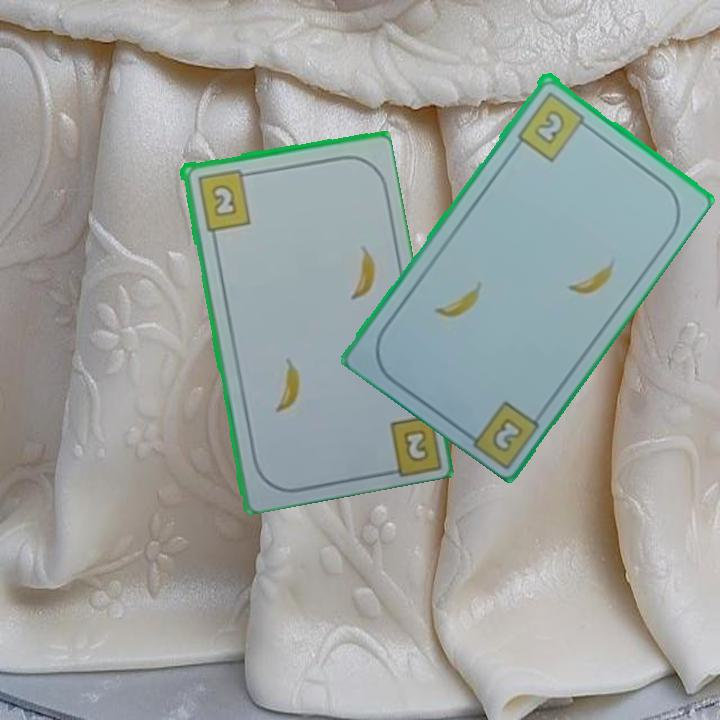2b: (514, 87, 593, 164), (193, 165, 254, 233), (488, 413, 526, 455), (399, 425, 432, 465)
